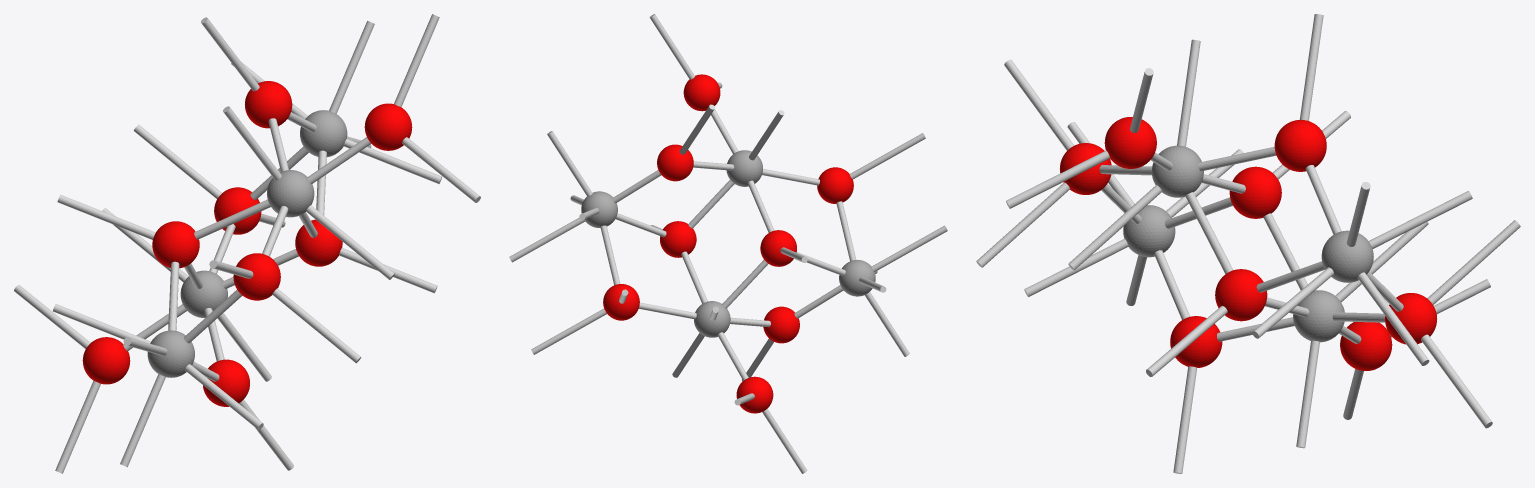
The model's file is structure_mpstyle.glb.
3 renders of one model, left to right at view 1: azimuth 30°, elevation 25°; view 2: azimuth 150°, elevation 25°; view 3: azimuth 270°, elevation 25°, orthographic. The views are drawn at different scales.
Parts seen in each view (by area): view 1: world; view 2: world; view 3: world.
Part boxes in pixels (x1,y1,x2,y2): world: [14, 14, 480, 473]; world: [509, 14, 947, 473]; world: [976, 14, 1520, 473].
Bounding box in the file's own units: 7.9 × 8.5 × 8.34.
